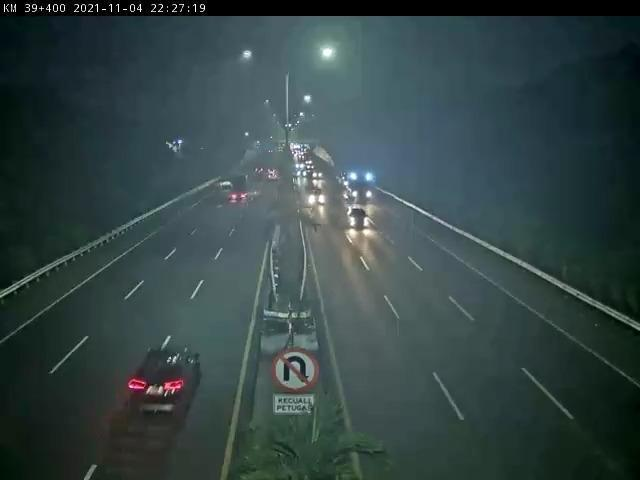car: (126, 351, 202, 415), (347, 207, 372, 232), (308, 188, 327, 207)
truck: (231, 176, 252, 203)
